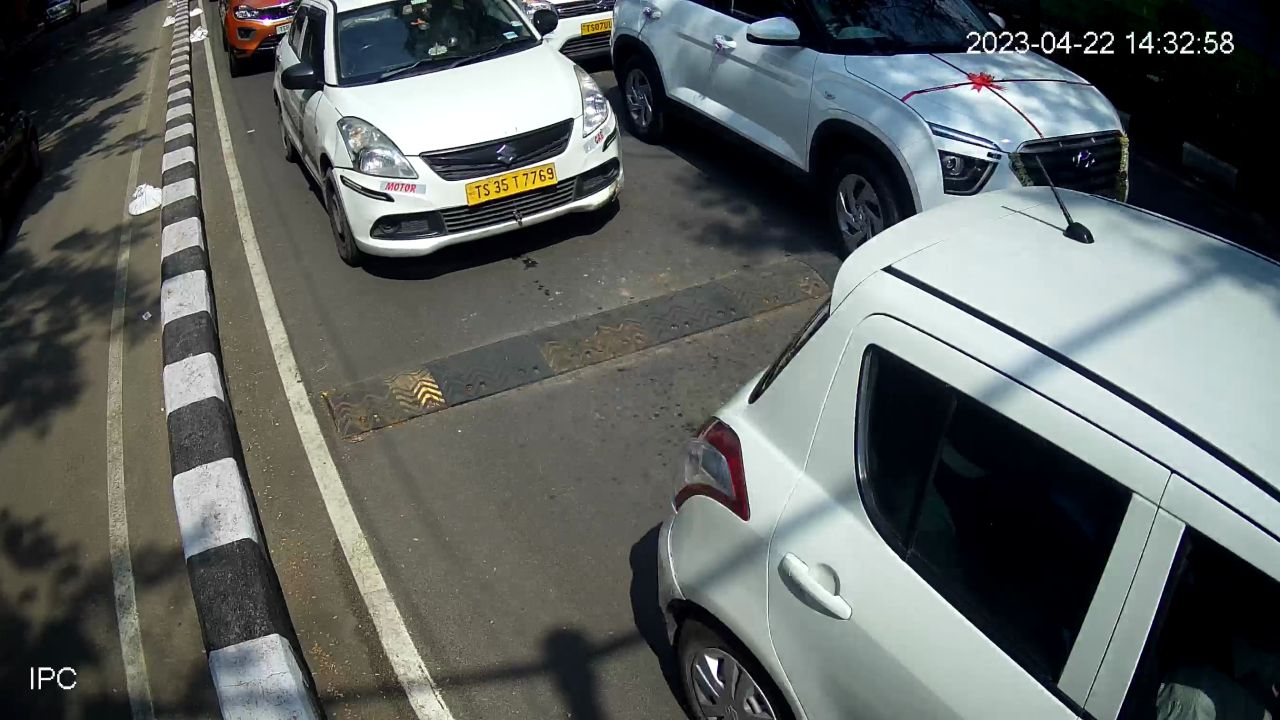license_plate: (462, 158, 560, 211), (578, 14, 623, 38)
